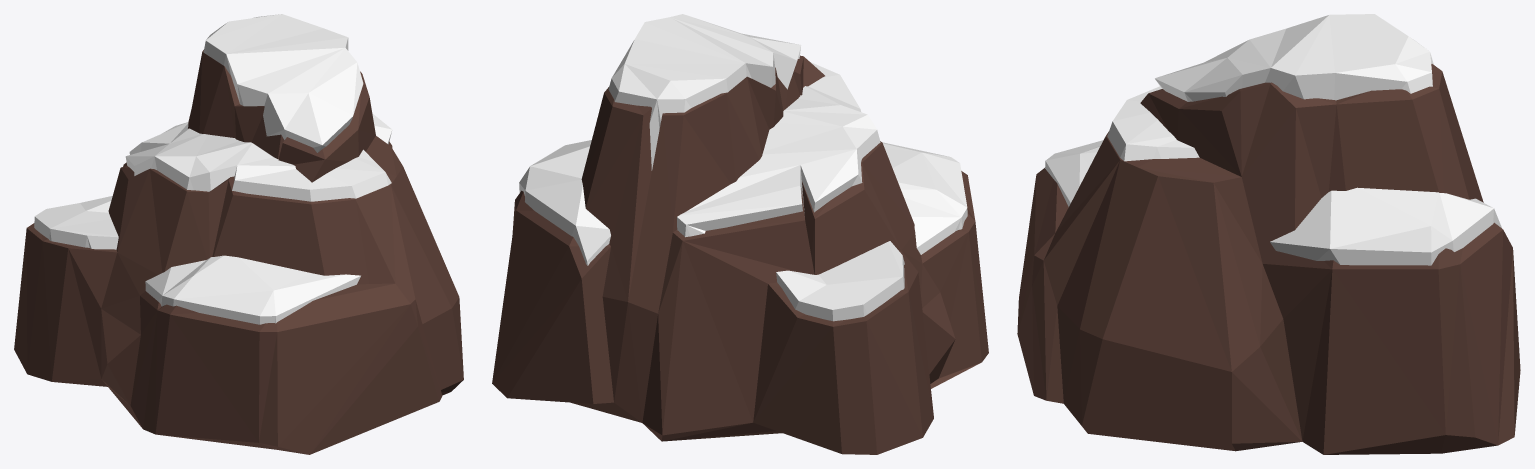
The model's file is snow_rock_017.fbx.
The picture shows the model from 3 angles, left to right: view 1: azimuth 30°, elevation 25°; view 2: azimuth 150°, elevation 25°; view 3: azimuth 270°, elevation 25°; orthographic projection. The views are drawn at different scales.
Parts seen in each view (by area): view 1: snow_rock_017; view 2: snow_rock_017; view 3: snow_rock_017.
Boxes of the visible parts, <box> form: snow_rock_017: <box>14,14,463,454</box>; snow_rock_017: <box>492,14,988,454</box>; snow_rock_017: <box>1017,14,1520,454</box>.
Size of the model in its own units: 1715 by 1767 by 1379.
